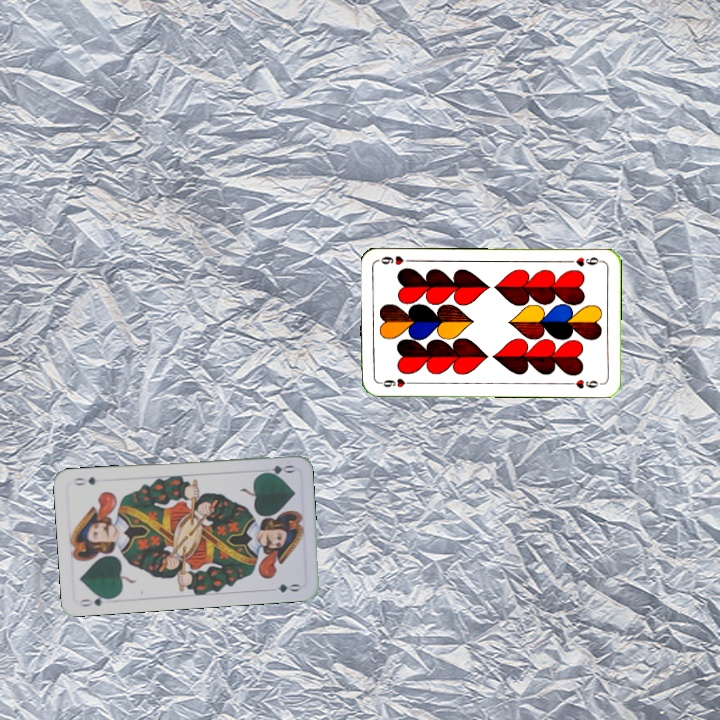GO: (76, 591, 116, 609), (256, 461, 297, 478)
H9: (564, 253, 605, 269), (375, 374, 416, 390)
